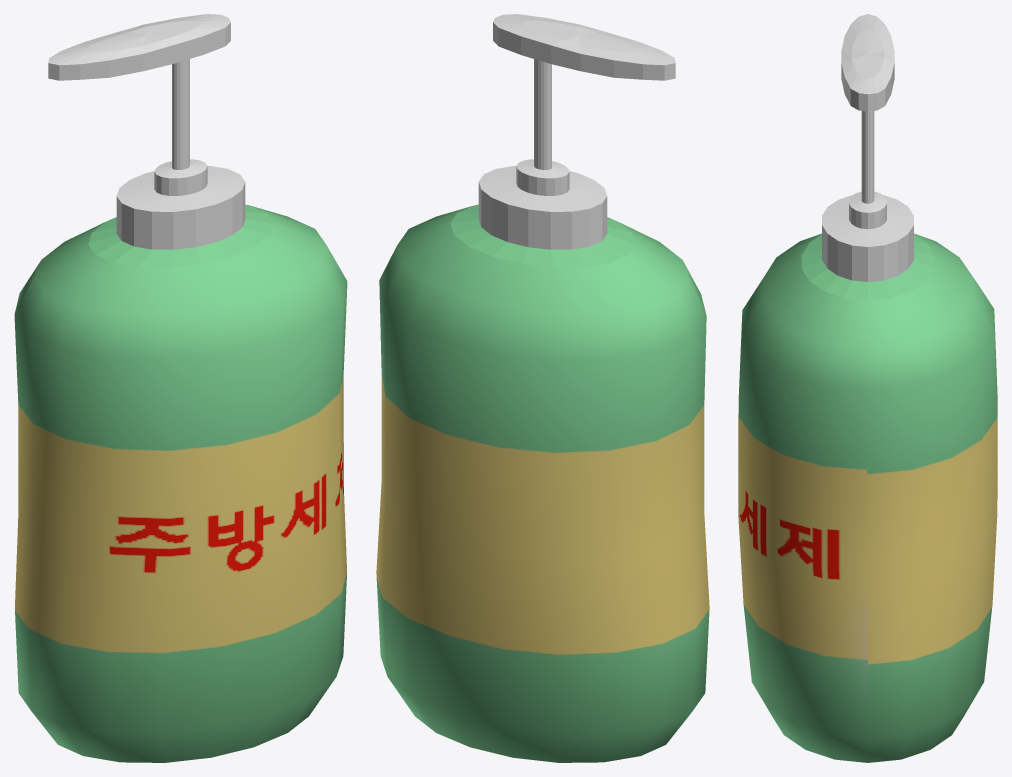
Rendered from DishSoap.fbx.
3 renders of one model, left to right at view 1: azimuth 30°, elevation 25°; view 2: azimuth 150°, elevation 25°; view 3: azimuth 270°, elevation 25°, orthographic. The views are drawn at different scales.
Visible parts, largest first — view 1: DishSoap, DishSoap2; view 2: DishSoap, DishSoap2; view 3: DishSoap, DishSoap2.
Boxes of the visible parts, box(x1,y1,x2,y2) form: DishSoap: box(14, 159, 347, 762); DishSoap2: box(48, 14, 230, 169); DishSoap: box(376, 159, 709, 762); DishSoap2: box(493, 14, 675, 169); DishSoap: box(738, 191, 997, 762); DishSoap2: box(841, 14, 894, 203).
Bounding box in the file's own units: 3.19 × 6.89 × 2.54.
1 material, 1 textured.
